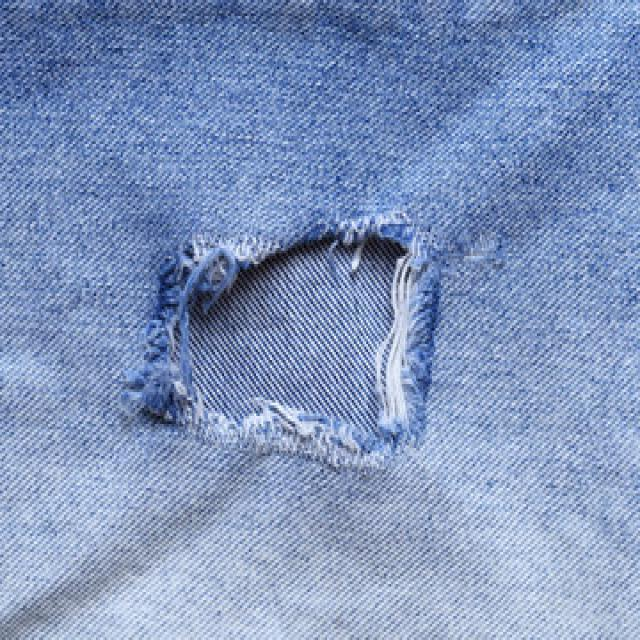Hole: (122, 214, 439, 472)
